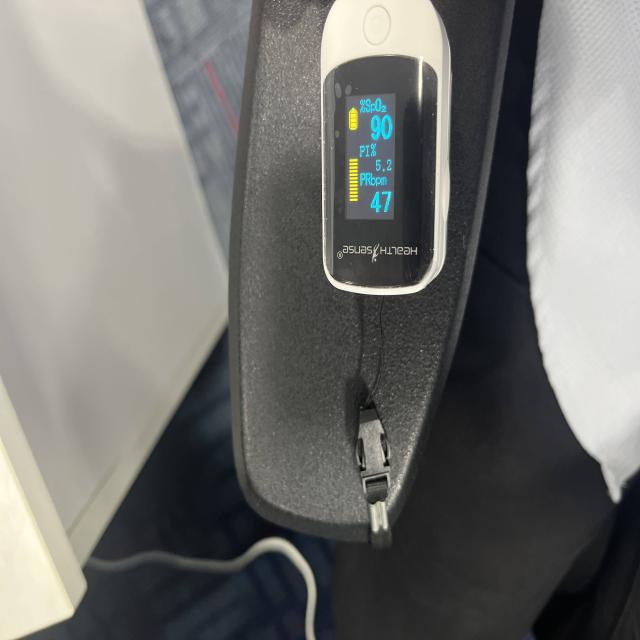spo2: (233, 0, 473, 554)
